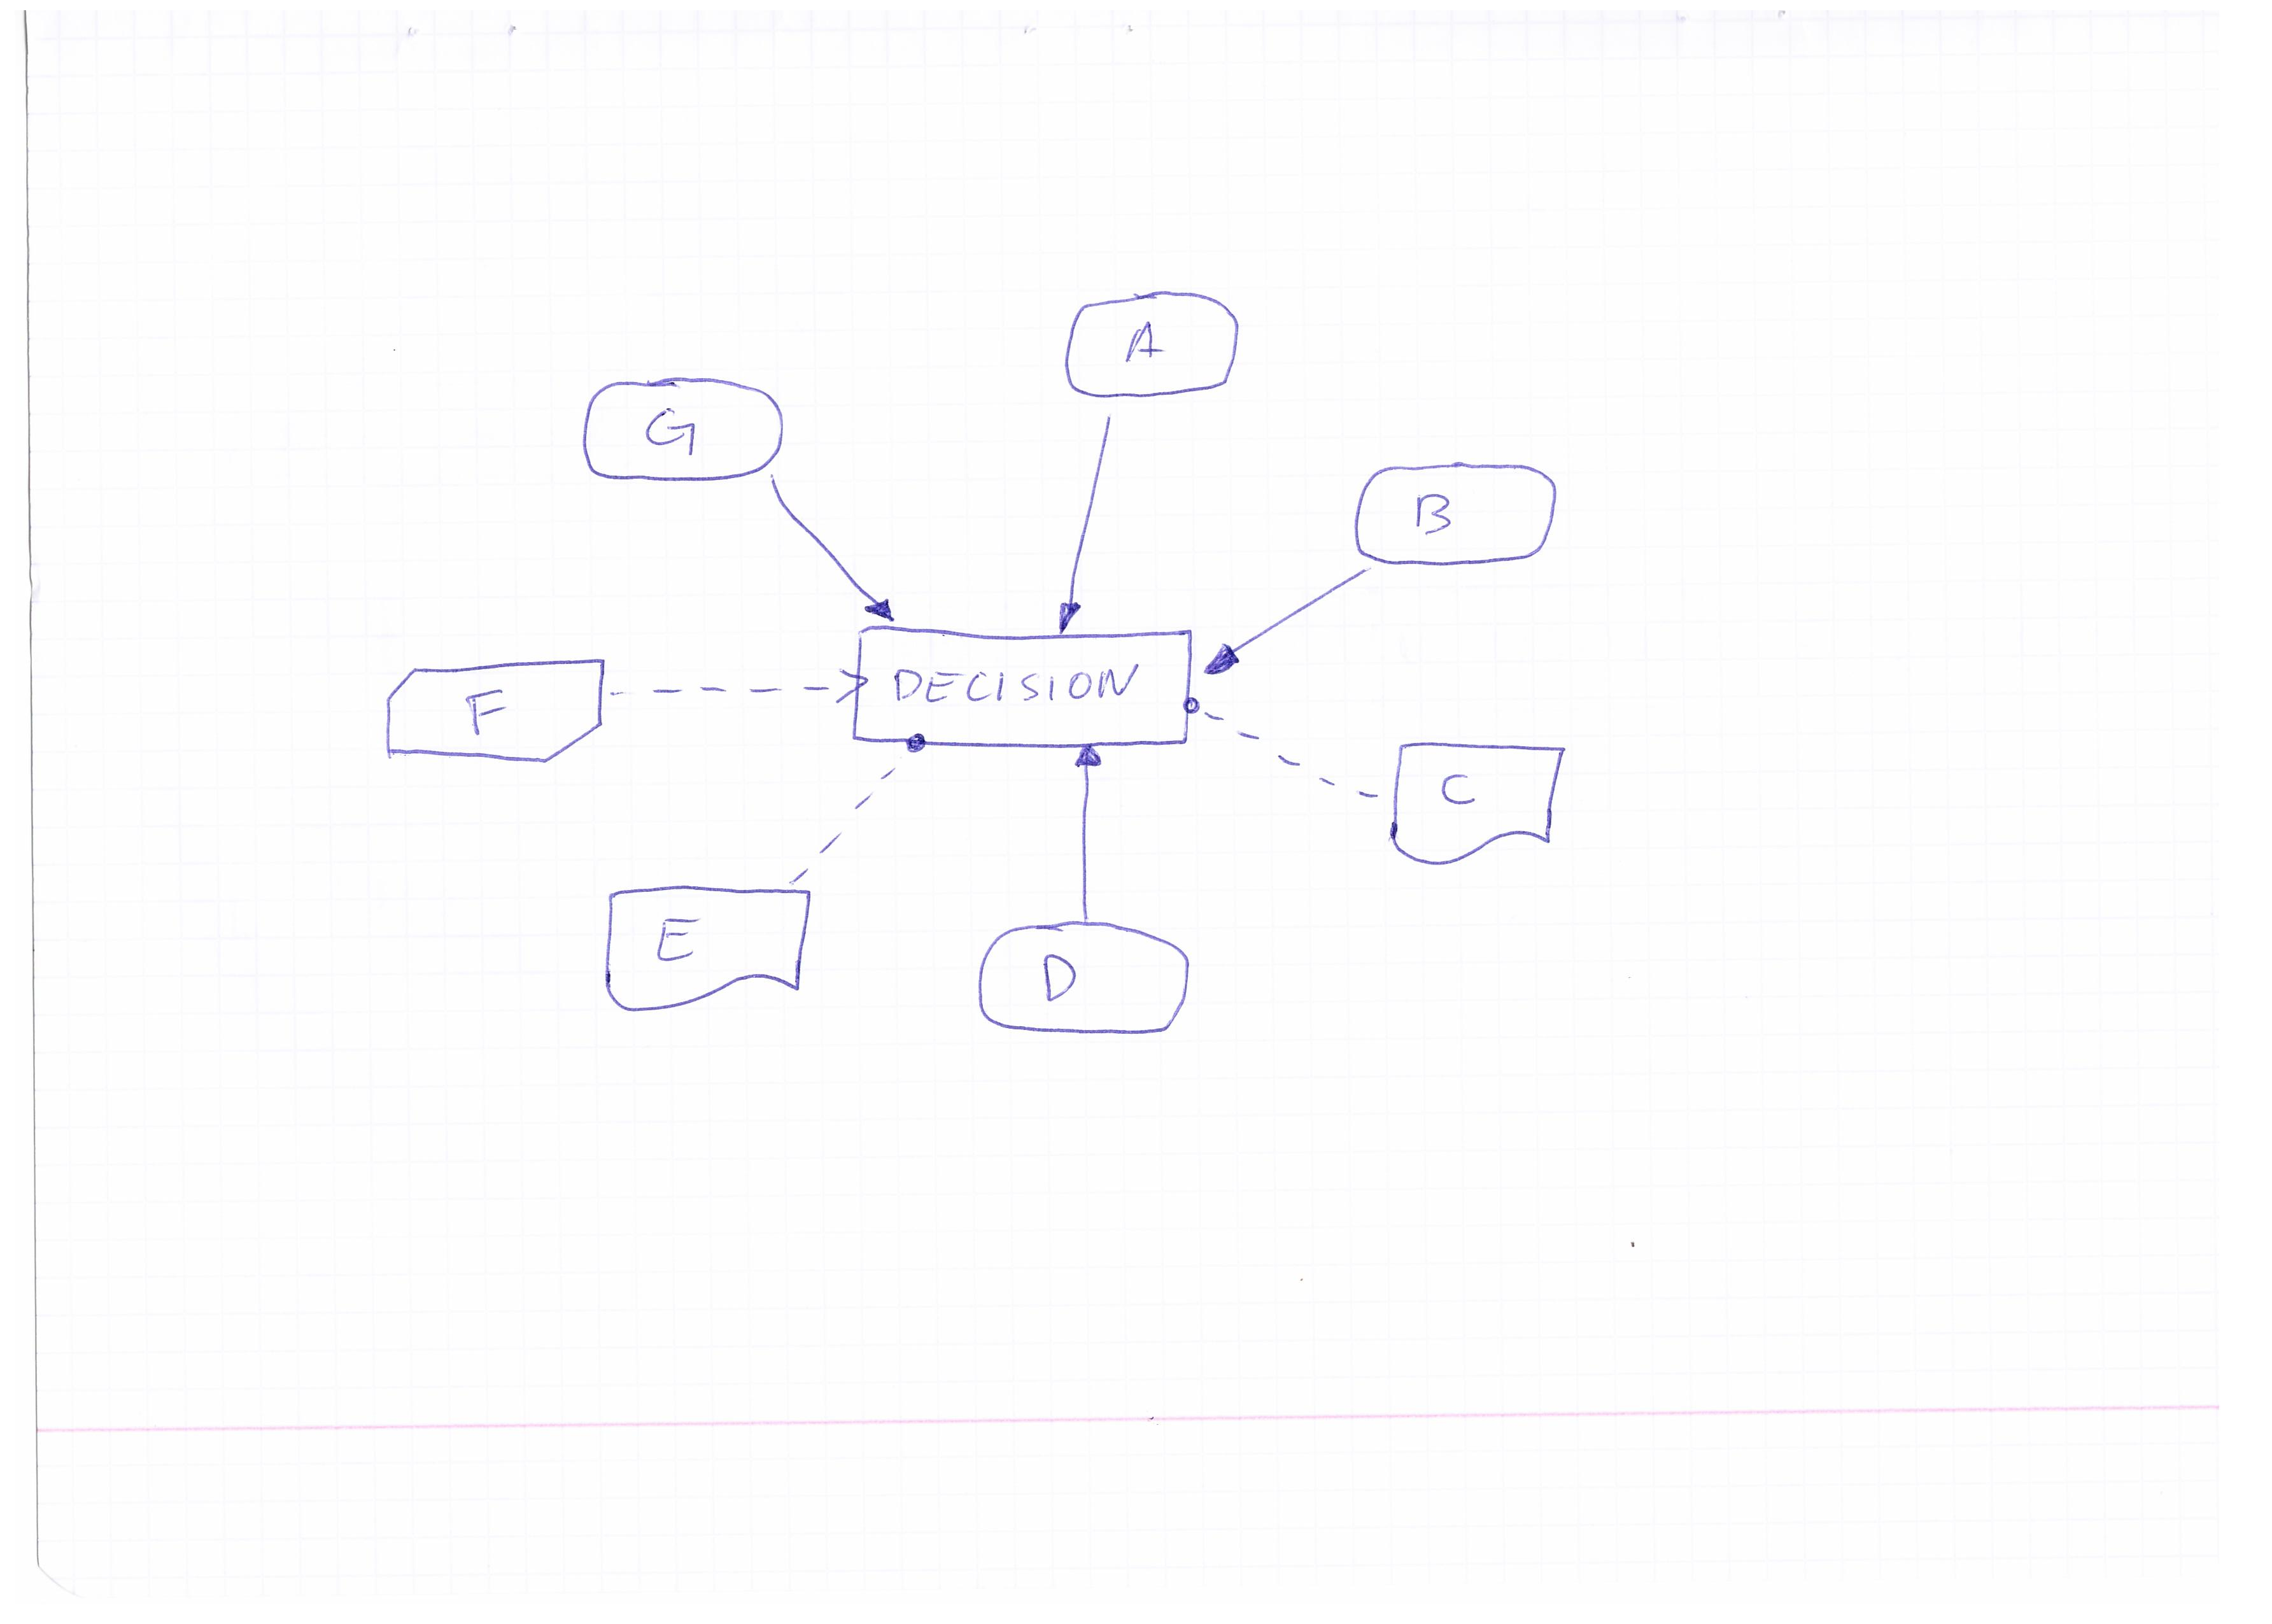arrow_authority_requirement: (1181, 691, 1386, 816), (785, 735, 931, 889)
arrow_information_requirement: (756, 473, 915, 633), (1198, 561, 1374, 682), (1035, 404, 1125, 640), (1067, 729, 1116, 921)
arrow_knowledge_requirement: (603, 666, 875, 715)
node_input_data: (849, 619, 1198, 749), (970, 916, 1212, 1056), (573, 364, 794, 482), (1046, 285, 1253, 406), (1341, 453, 1564, 566)
node_knowledge_model: (364, 649, 610, 780)
node_knowledge_source: (592, 881, 831, 1023), (1385, 728, 1581, 882)
text: (884, 656, 1161, 714), (446, 680, 522, 749), (1392, 480, 1469, 547), (640, 909, 720, 970), (1030, 946, 1093, 1012), (1109, 318, 1176, 378), (1432, 768, 1495, 819)
